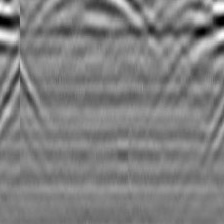Utility: (29, 1, 153, 50), (157, 1, 224, 53)
